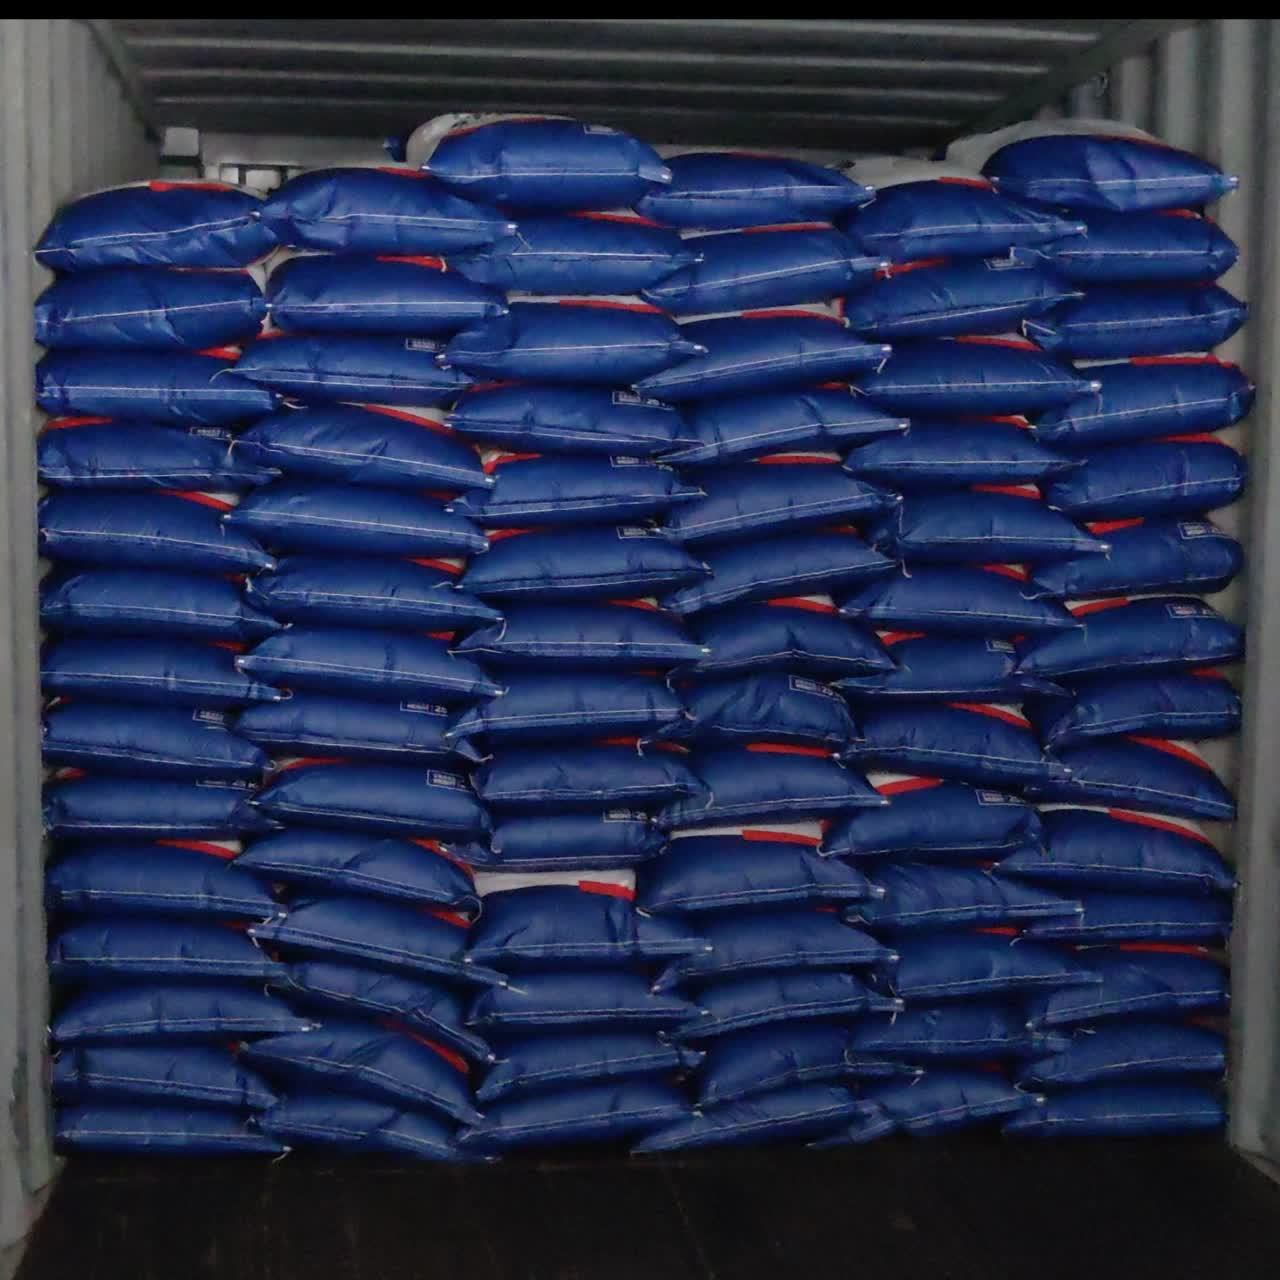sack: (945, 118, 1241, 216), (236, 1012, 478, 1125), (383, 113, 666, 207), (826, 158, 1083, 260), (268, 952, 495, 1065), (469, 869, 713, 974), (250, 888, 503, 985), (636, 306, 887, 402), (651, 813, 883, 915), (38, 179, 280, 275), (998, 805, 1234, 901), (662, 518, 896, 615), (264, 168, 513, 258), (244, 400, 490, 491), (443, 210, 703, 295), (443, 298, 700, 384), (653, 455, 904, 543), (695, 1017, 926, 1112), (40, 836, 292, 920), (651, 225, 879, 316), (248, 1082, 502, 1164), (843, 253, 1082, 340), (817, 769, 1041, 862), (839, 696, 1071, 785), (1034, 356, 1253, 450), (229, 477, 490, 556), (462, 522, 715, 602), (34, 343, 294, 422), (858, 483, 1104, 565), (243, 625, 503, 702), (238, 829, 479, 912), (654, 907, 894, 990), (867, 920, 1104, 1005), (246, 554, 502, 632), (36, 488, 275, 570), (658, 744, 891, 828), (268, 257, 508, 338), (659, 388, 908, 465), (853, 335, 1091, 416), (258, 758, 492, 840), (457, 595, 712, 670), (36, 271, 272, 352), (40, 696, 273, 777), (1019, 598, 1241, 682), (461, 449, 700, 527), (458, 1074, 702, 1150), (842, 858, 1081, 935), (1015, 207, 1239, 290), (36, 415, 285, 489), (238, 694, 489, 767), (43, 566, 288, 640), (471, 741, 716, 815), (638, 151, 874, 227), (805, 1073, 1049, 1146), (672, 597, 893, 678), (1023, 673, 1239, 755), (667, 968, 906, 1042), (632, 1084, 876, 1156), (445, 384, 688, 456), (1023, 282, 1247, 360), (451, 670, 692, 742), (237, 332, 476, 403), (837, 565, 1077, 635), (1024, 740, 1233, 821), (42, 769, 286, 838), (1042, 440, 1246, 522), (836, 631, 1074, 701), (1033, 519, 1242, 599), (475, 967, 712, 1036), (477, 1028, 702, 1101), (52, 983, 314, 1046), (846, 418, 1073, 490), (39, 636, 287, 701), (1026, 951, 1227, 1029), (48, 918, 284, 983), (52, 1043, 279, 1111), (642, 675, 858, 744), (1019, 1023, 1225, 1092), (849, 1003, 1063, 1067), (54, 1102, 291, 1157), (1005, 1083, 1228, 1136), (448, 817, 665, 871), (1026, 893, 1232, 949)
